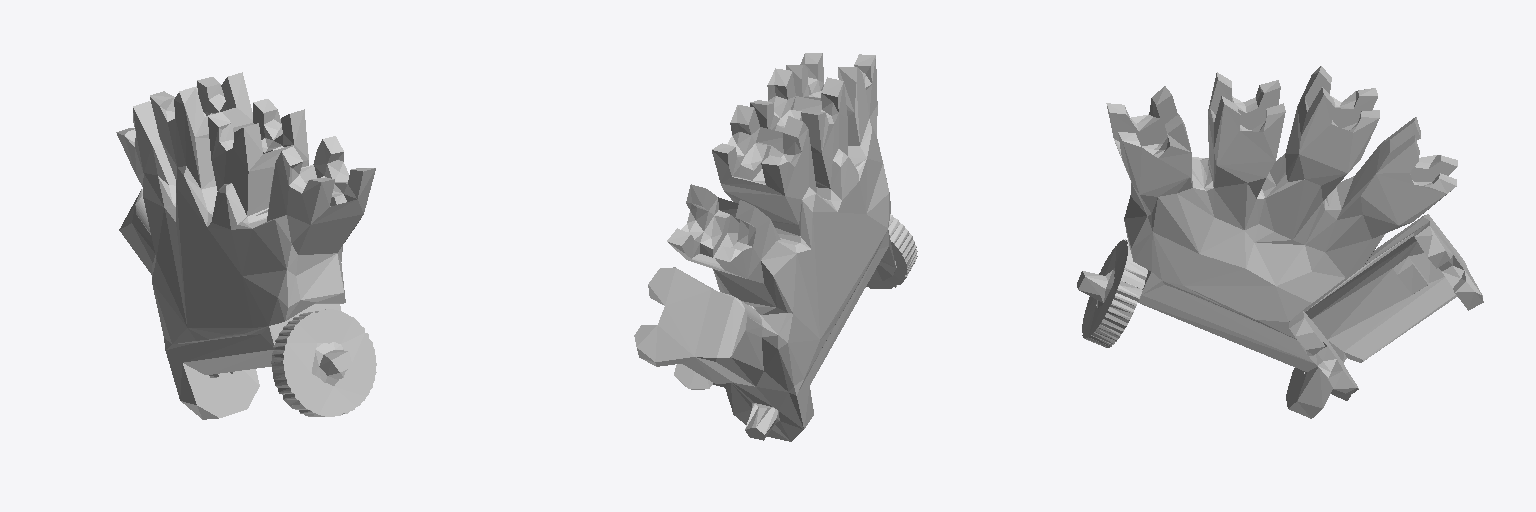
Rendered from right_visual_palm_mesh_mesh.obj.
3 views of the same model, side by side, from view 1: azimuth 30°, elevation 25°; view 2: azimuth 150°, elevation 25°; view 3: azimuth 270°, elevation 25° (orthographic).
Size of the model in its own units: 0.0352 by 0.0892 by 0.0994.